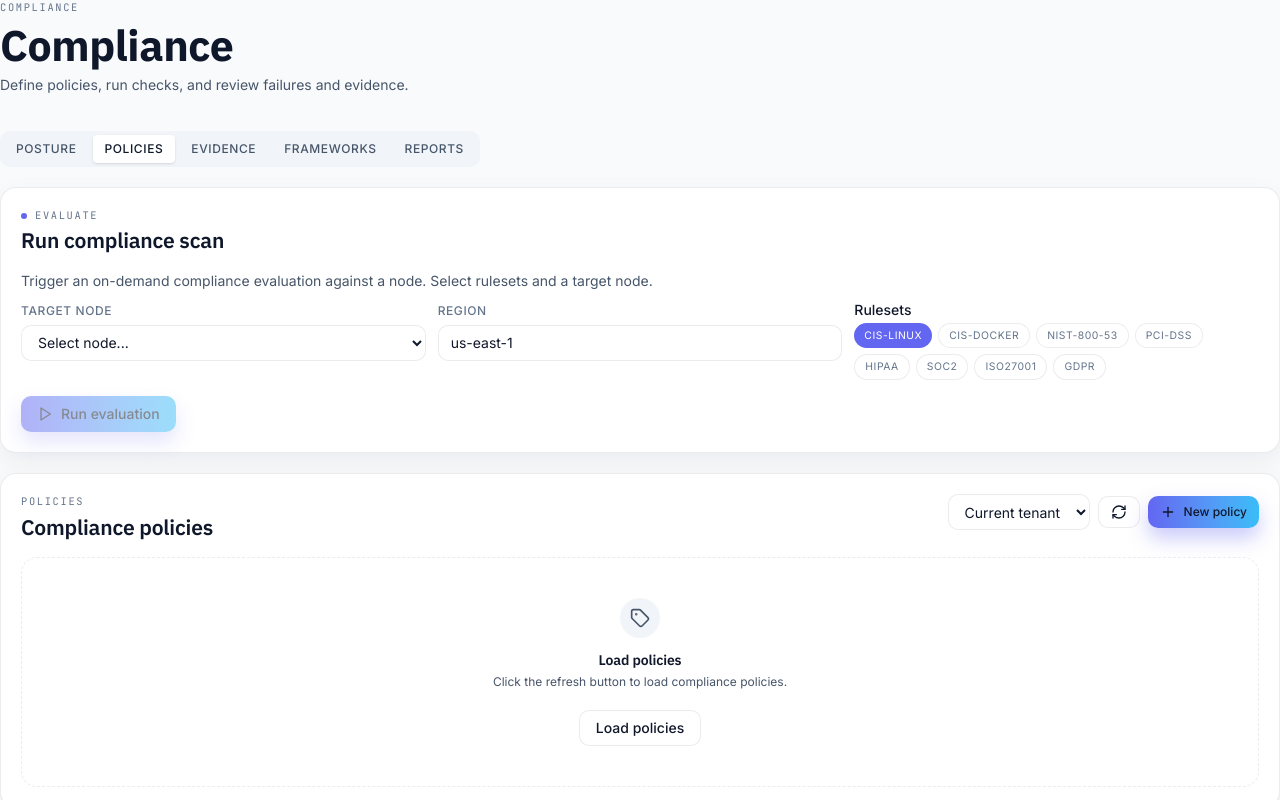
Scenario: Compliance policies › requires modal confirmation before deleting a policy and keeps failed deletion visible
The width and height of the screenshot is (1280, 800).
Click the button "Load policies" at (640, 728), box x1=579 y1=710 x2=701 y2=746
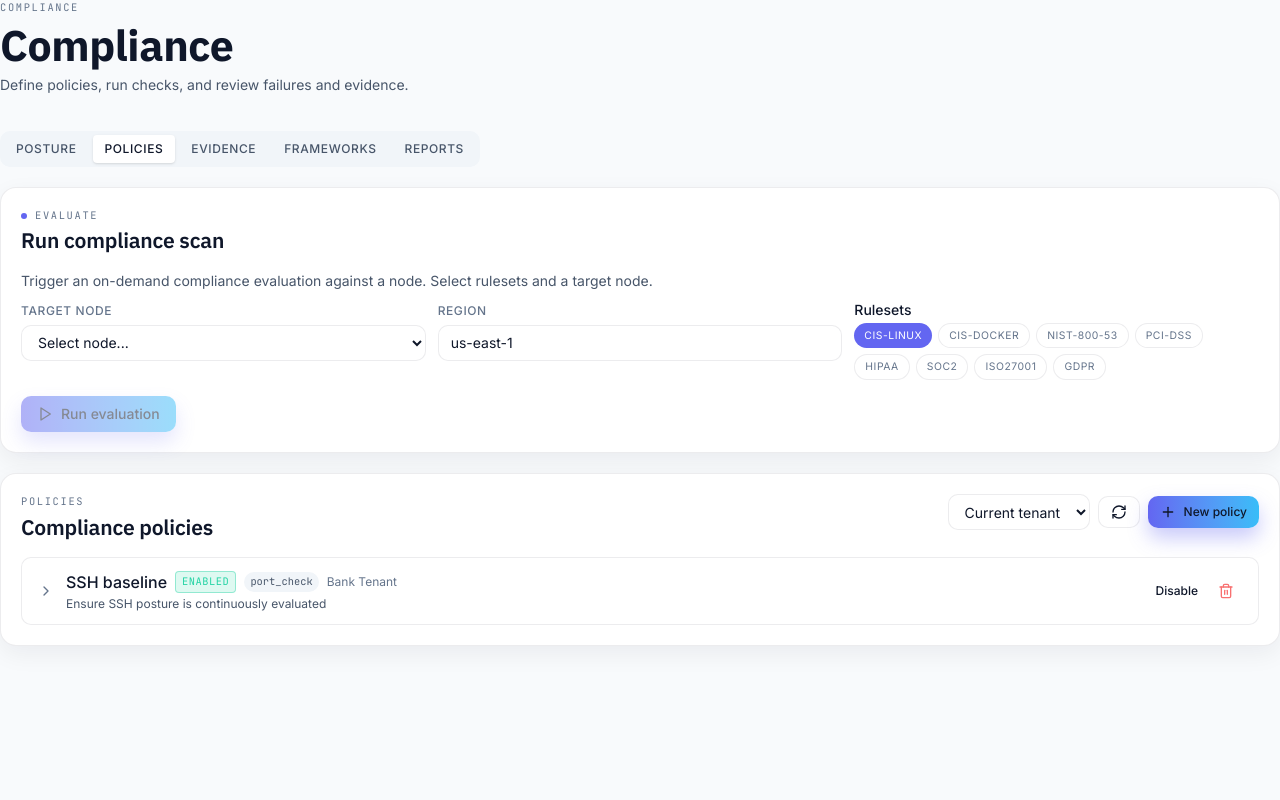
Now the text "SSH baseline" is shown, box x1=66 y1=570 x2=167 y2=594
Click the button named "Delete compliance policy SSH baseline" at (1226, 591), box x1=1210 y1=577 x2=1242 y2=605
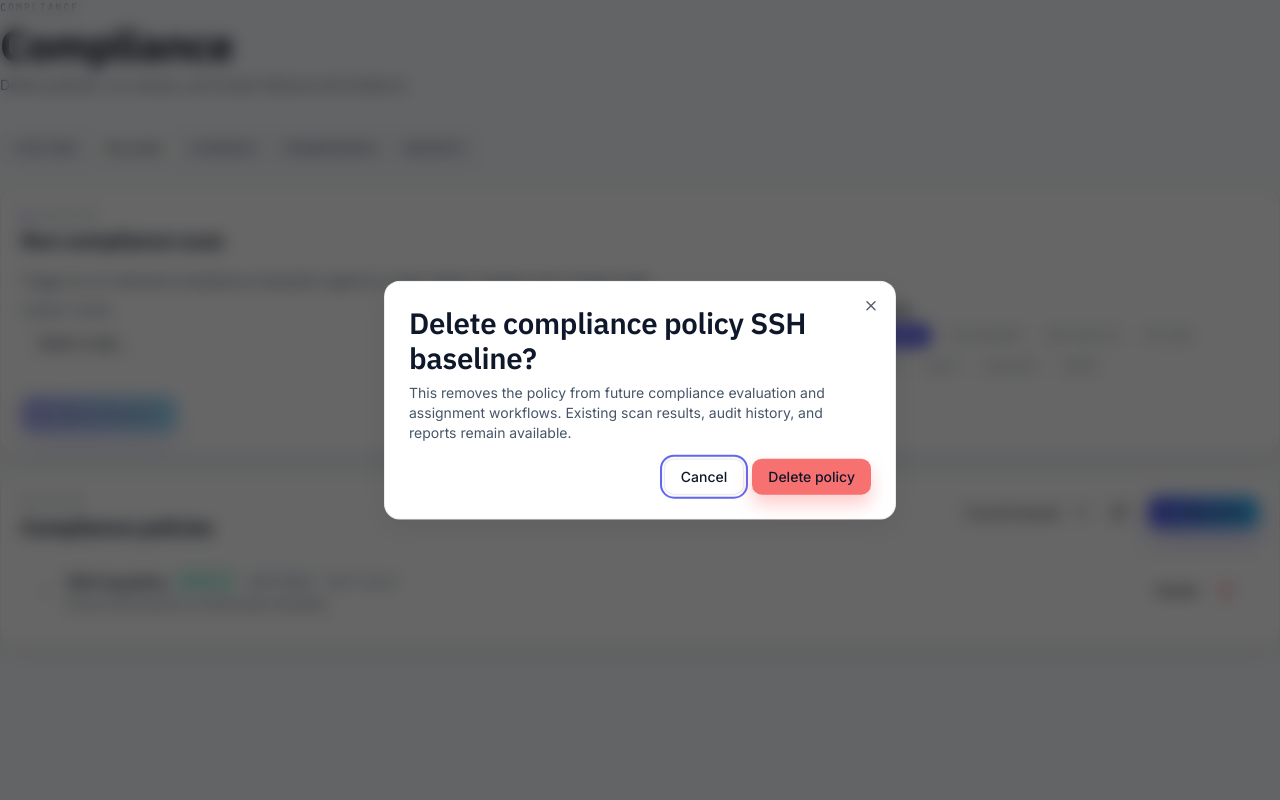
Click the button "Delete policy" at (812, 476), box x1=752 y1=458 x2=871 y2=494
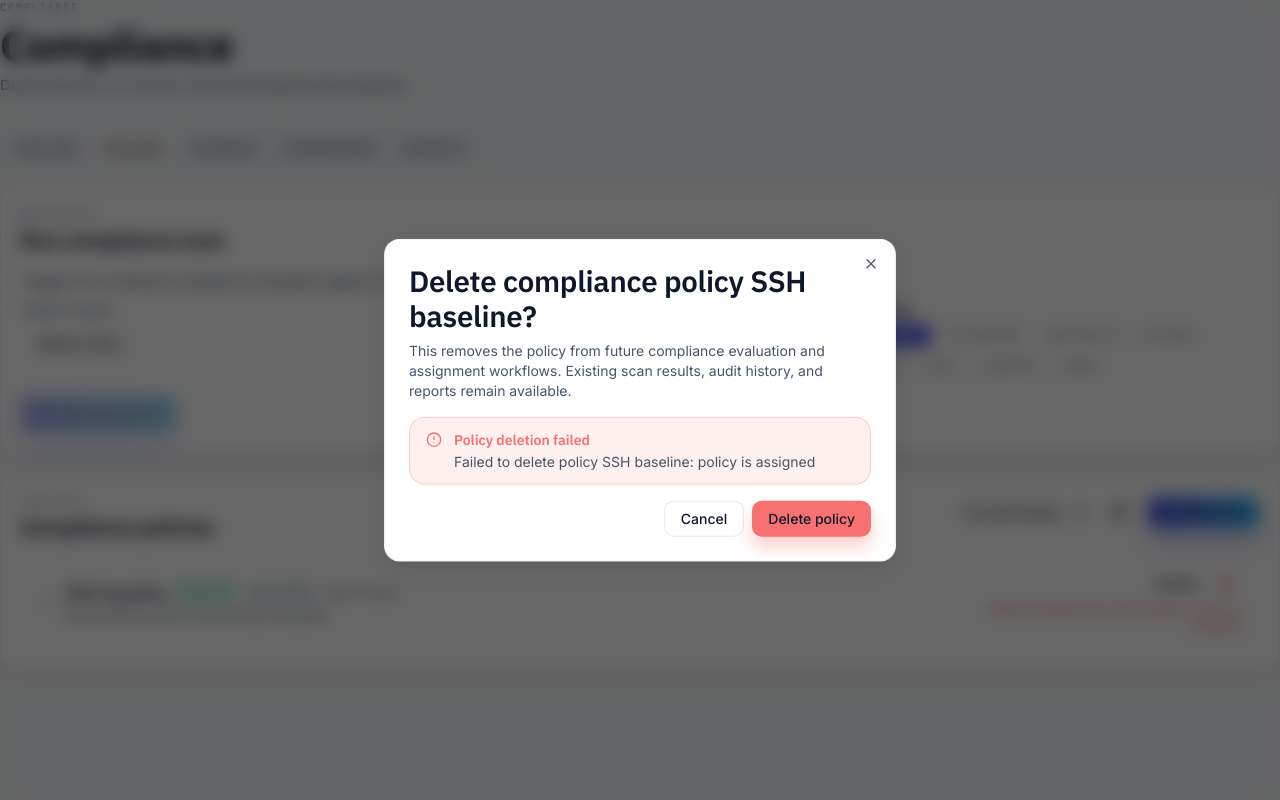
Now the dialog "Delete compliance policy SSH baseline" is shown, box x1=384 y1=239 x2=896 y2=561
Now the text "Policy deletion failed" is shown, box x1=454 y1=430 x2=590 y2=448
